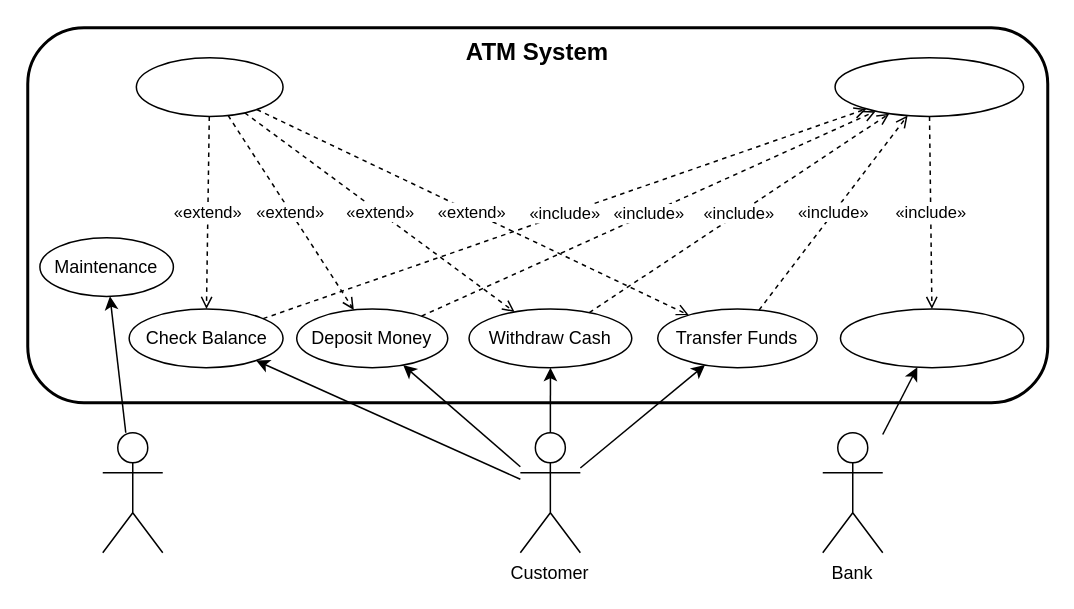
Some shapes in this 1074 by 609 pixel diagram are drawn without their labels. The shapes that lost their labels are listed below. From the top down, each one's centre as x and y in pixels, then its label:
At point (209, 86): "Print Receipt".
At point (929, 86): "Authenticate User".
At point (931, 338): "Validate with Bank".
At point (132, 492): "Technician".
